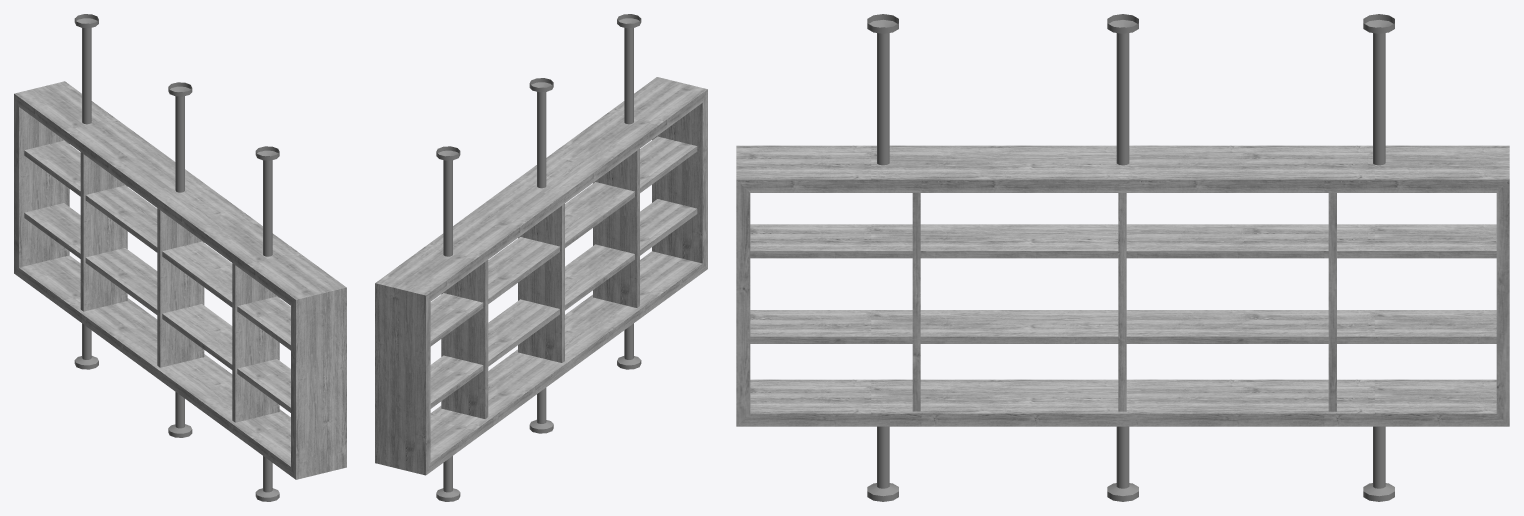
File: Shelf_C.FBX
3 views of the same model, side by side, from view 1: azimuth 30°, elevation 25°; view 2: azimuth 150°, elevation 25°; view 3: azimuth 270°, elevation 25° (orthographic). The views are drawn at different scales.
Visible parts, largest first — view 1: Shelf_C; view 2: Shelf_C; view 3: Shelf_C.
Part boxes in pixels (x1,y1,x2,y2): Shelf_C: (14, 14, 346, 501); Shelf_C: (375, 14, 707, 501); Shelf_C: (736, 14, 1509, 501).
Bounding box in the file's own units: 0.6387 × 4.15 × 6.14.
Materials: 2 (1 with a texture image).
